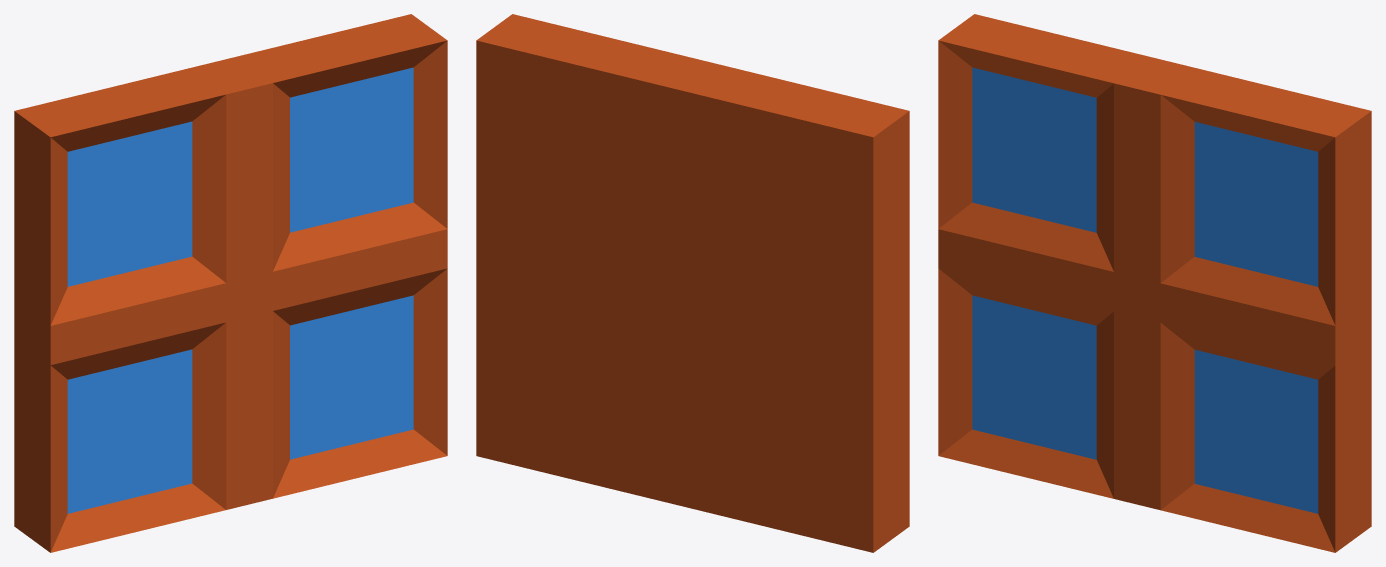
File: window.fbx
The picture shows the model from 3 angles, left to right: view 1: azimuth 30°, elevation 25°; view 2: azimuth 150°, elevation 25°; view 3: azimuth 330°, elevation 25°; orthographic projection.
Parts seen in each view (by area): view 1: Cube; view 2: Cube; view 3: Cube.
Part boxes in pixels (x1=…): Cube: x1=14, y1=14, x2=447, y2=552; Cube: x1=476, y1=14, x2=909, y2=552; Cube: x1=938, y1=14, x2=1371, y2=552.
Size of the model in its own units: 1426 by 1426 by 225.
